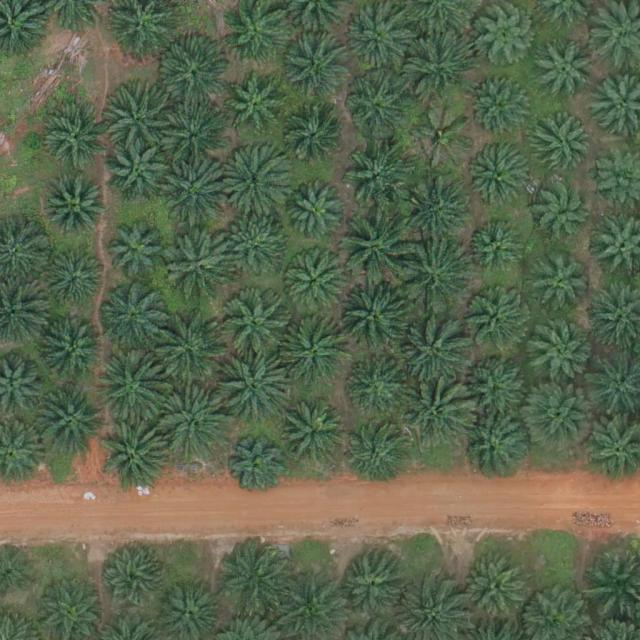Healthy: (217, 547, 288, 618), (400, 171, 471, 242), (339, 214, 410, 285), (219, 146, 290, 217), (222, 292, 293, 363), (162, 156, 233, 227), (165, 229, 236, 300), (94, 354, 165, 425), (337, 551, 407, 622), (460, 412, 530, 483), (399, 314, 469, 385), (401, 243, 471, 314), (340, 281, 410, 352), (280, 402, 350, 473), (161, 44, 231, 115), (154, 312, 224, 383), (159, 391, 229, 462), (99, 281, 169, 352), (106, 79, 176, 150), (34, 387, 104, 458), (526, 384, 596, 454), (401, 380, 471, 450), (403, 34, 473, 104), (343, 139, 413, 209), (279, 317, 349, 387), (224, 353, 294, 423), (102, 423, 172, 493), (529, 323, 592, 386), (467, 288, 530, 351), (347, 358, 410, 421), (345, 426, 408, 489), (224, 75, 287, 138), (45, 250, 108, 313), (462, 558, 524, 621), (534, 40, 596, 103), (529, 115, 591, 178), (532, 178, 594, 241), (470, 74, 532, 137), (468, 147, 530, 210), (344, 5, 406, 68), (345, 75, 407, 138), (286, 41, 348, 104), (283, 253, 345, 316), (225, 220, 288, 282), (106, 222, 168, 285), (107, 141, 169, 204), (45, 178, 108, 240), (101, 547, 163, 609), (472, 9, 534, 71), (468, 352, 530, 414), (281, 112, 343, 174), (163, 105, 225, 167), (45, 110, 107, 172), (43, 323, 105, 385), (534, 258, 589, 313), (469, 225, 524, 280), (289, 187, 344, 242), (228, 441, 283, 496)
Yellow: (413, 106, 475, 168)
